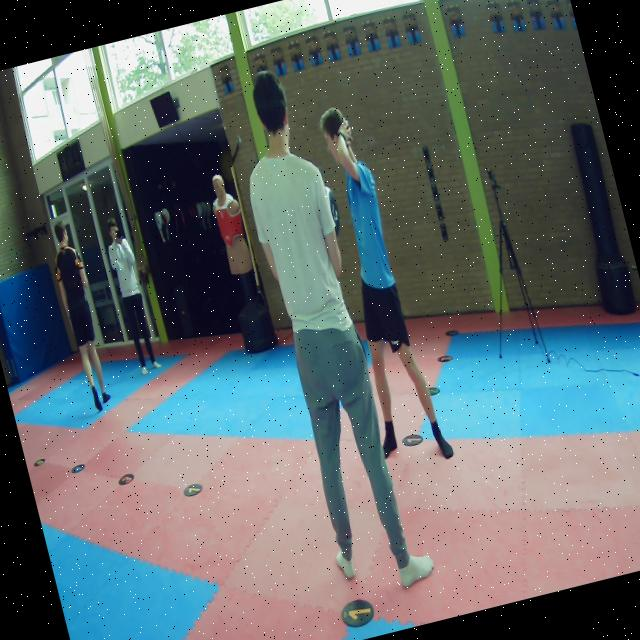paddle: (324, 186, 340, 235)
